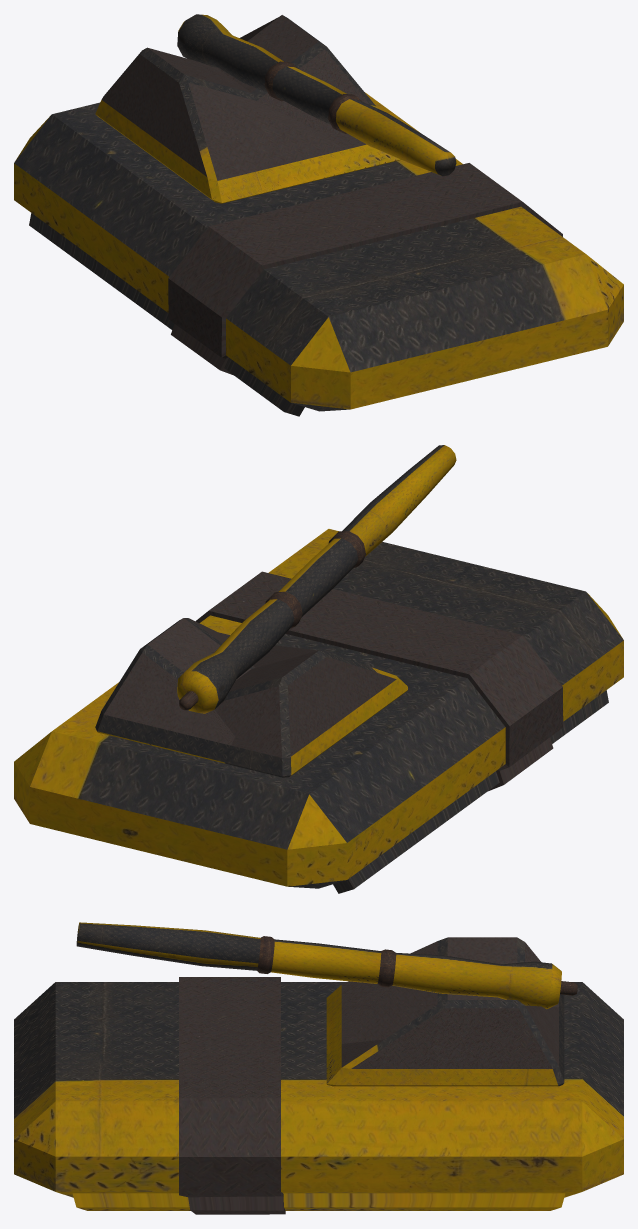
The model's file is Tank.glb.
The picture shows the model from 3 angles, top to bottom: view 1: azimuth 30°, elevation 25°; view 2: azimuth 150°, elevation 25°; view 3: azimuth 270°, elevation 25°; orthographic projection. The views are drawn at different scales.
Visible parts, largest first — view 1: Tank; view 2: Tank; view 3: Tank.
Boxes of the visible parts, bbox=[...] form: Tank: bbox=[14, 14, 623, 416]; Tank: bbox=[14, 445, 623, 893]; Tank: bbox=[14, 922, 623, 1214].
Bounding box in the file's own units: 3.07 × 2.04 × 5.
Materials: 7 (7 with a texture image).
